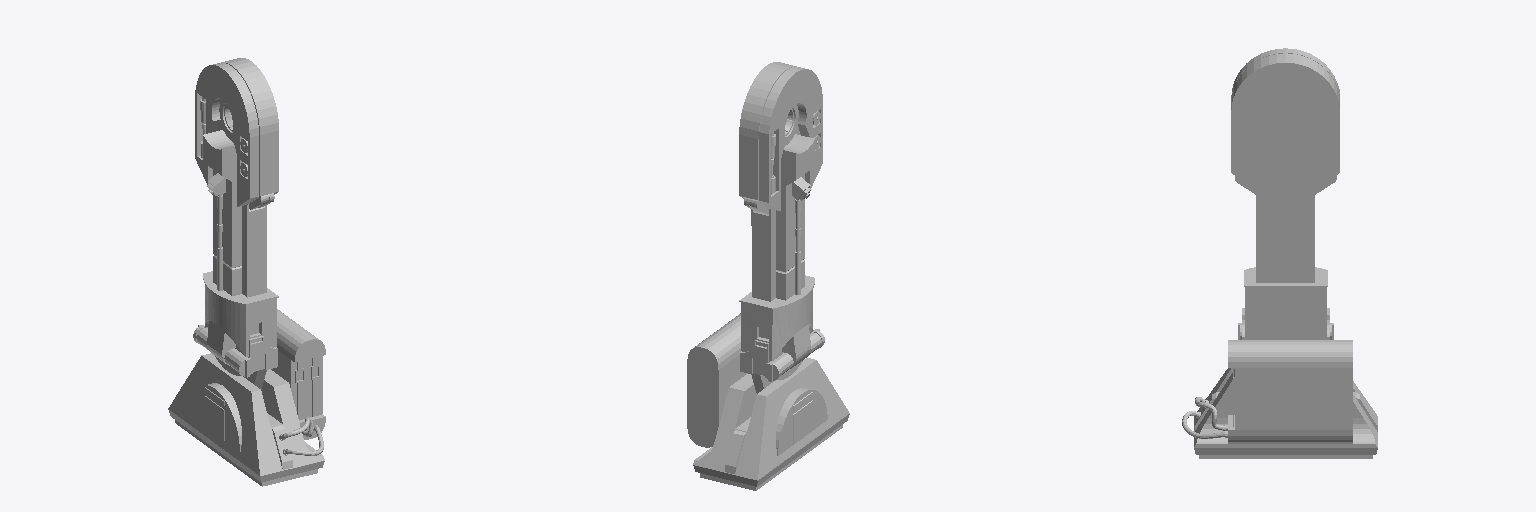
The model's file is pata izquierda 2.obj.
3 views of the same model, side by side, from view 1: azimuth 30°, elevation 25°; view 2: azimuth 150°, elevation 25°; view 3: azimuth 270°, elevation 25° (orthographic).
Visible parts, largest first — view 1: _D2_R2_Right_Upper_Leg; view 2: _D2_R2_Right_Upper_Leg; view 3: _D2_R2_Right_Upper_Leg.
Part boxes in pixels (left/top/right/bottom): _D2_R2_Right_Upper_Leg: left=168, top=58, right=325, bottom=486; _D2_R2_Right_Upper_Leg: left=687, top=62, right=849, bottom=490; _D2_R2_Right_Upper_Leg: left=1182, top=48, right=1377, bottom=458.
Bounding box in the file's own units: 1.9 × 7.9 × 3.65.